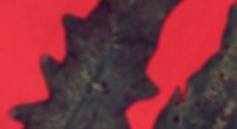Tomato Septoria leaf spot: (22, 0, 195, 129), (137, 39, 237, 129)
